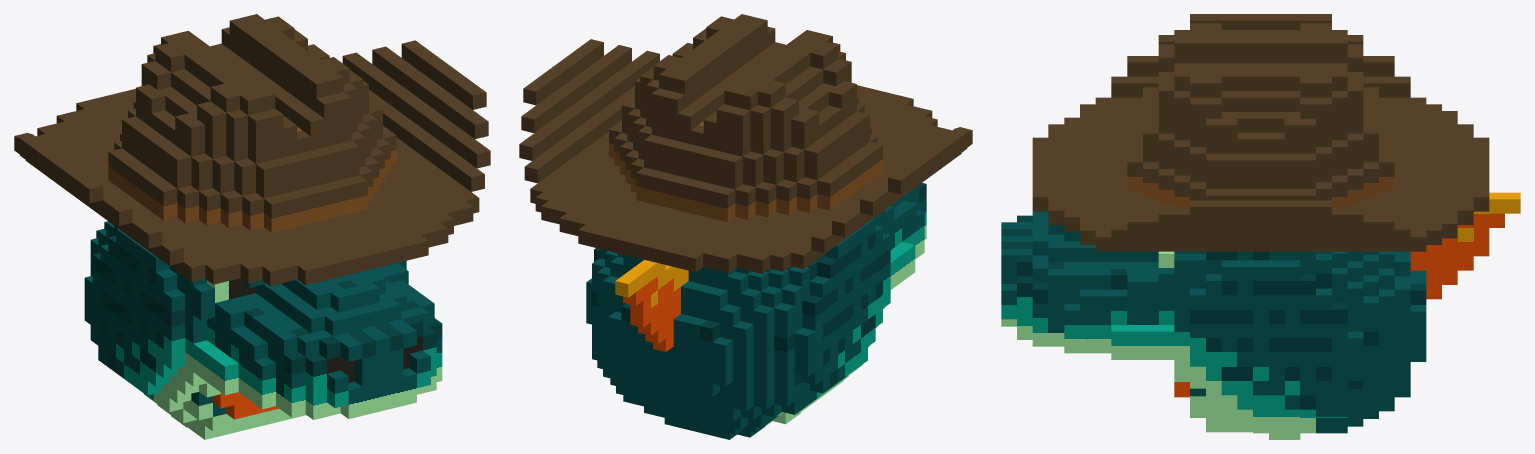
File: cowboy hat_red glasses.gltf
3 renders of one model, left to right at view 1: azimuth 30°, elevation 25°; view 2: azimuth 150°, elevation 25°; view 3: azimuth 270°, elevation 25°, orthographic. The views are drawn at different scales.
Visible parts, largest first — view 1: C11_H_CowboyH_RedG_RBSpec-Mesh; view 2: C11_H_CowboyH_RedG_RBSpec-Mesh; view 3: C11_H_CowboyH_RedG_RBSpec-Mesh.
Boxes of the visible parts, x1,y1,x2,y2 form: C11_H_CowboyH_RedG_RBSpec-Mesh: (14, 14, 490, 439); C11_H_CowboyH_RedG_RBSpec-Mesh: (519, 14, 972, 439); C11_H_CowboyH_RedG_RBSpec-Mesh: (1001, 14, 1520, 439).
Bounding box in the file's own units: 29 × 25 × 33.
Materials: 1 (1 with a texture image).
